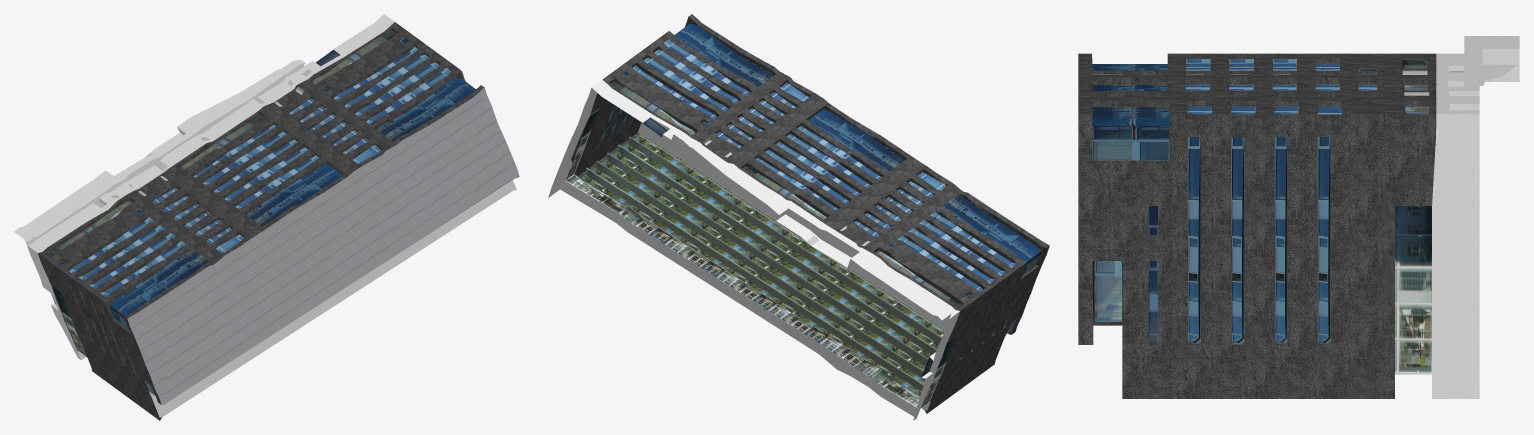
Rendered from Kpst8_1_1-origo.obj.
3 views of the same model, side by side, from view 1: azimuth 30°, elevation 25°; view 2: azimuth 150°, elevation 25°; view 3: azimuth 270°, elevation 25° (orthographic). The views are drawn at different scales.
Parts seen in each view (by area): view 1: polySurface6; view 2: polySurface6; view 3: polySurface6.
Boxes of the visible parts, x1,y1,x2,y2 form: polySurface6: [14, 14, 519, 420]; polySurface6: [548, 14, 1049, 420]; polySurface6: [1078, 36, 1519, 398].
Size of the model in its own units: 64.5 by 40.5 by 30.55.
